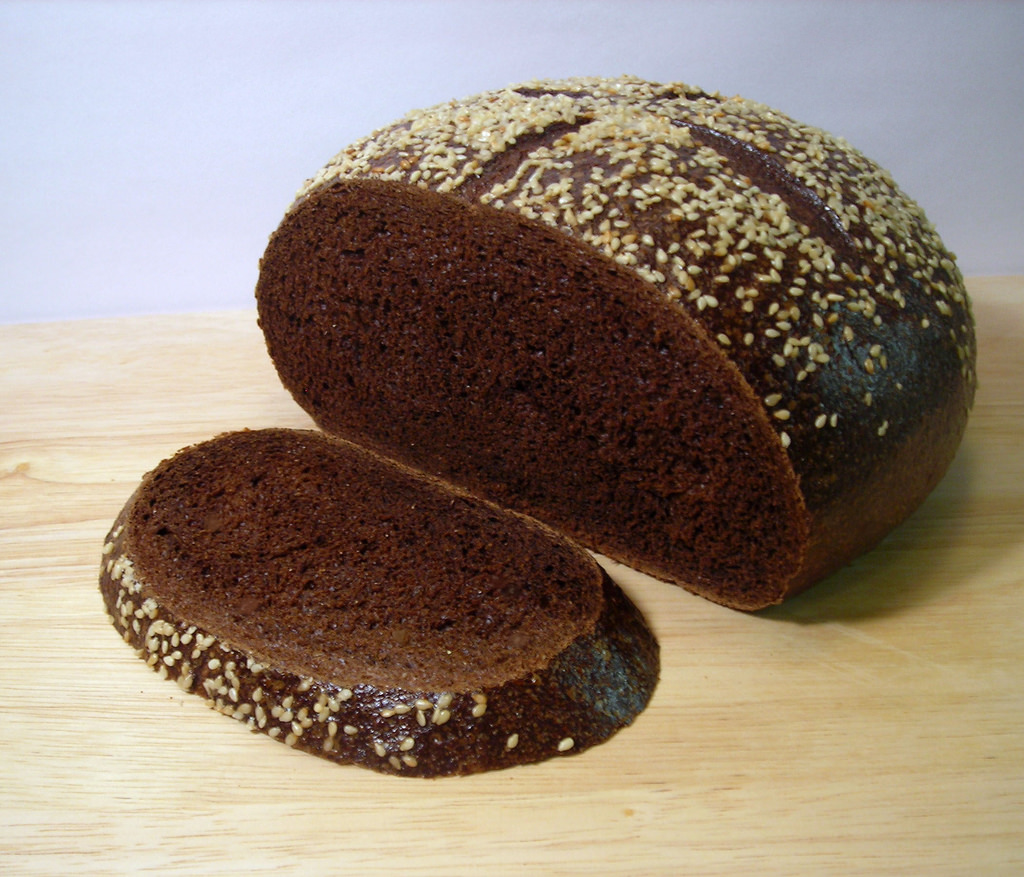slice of bread: (83, 410, 675, 774)
